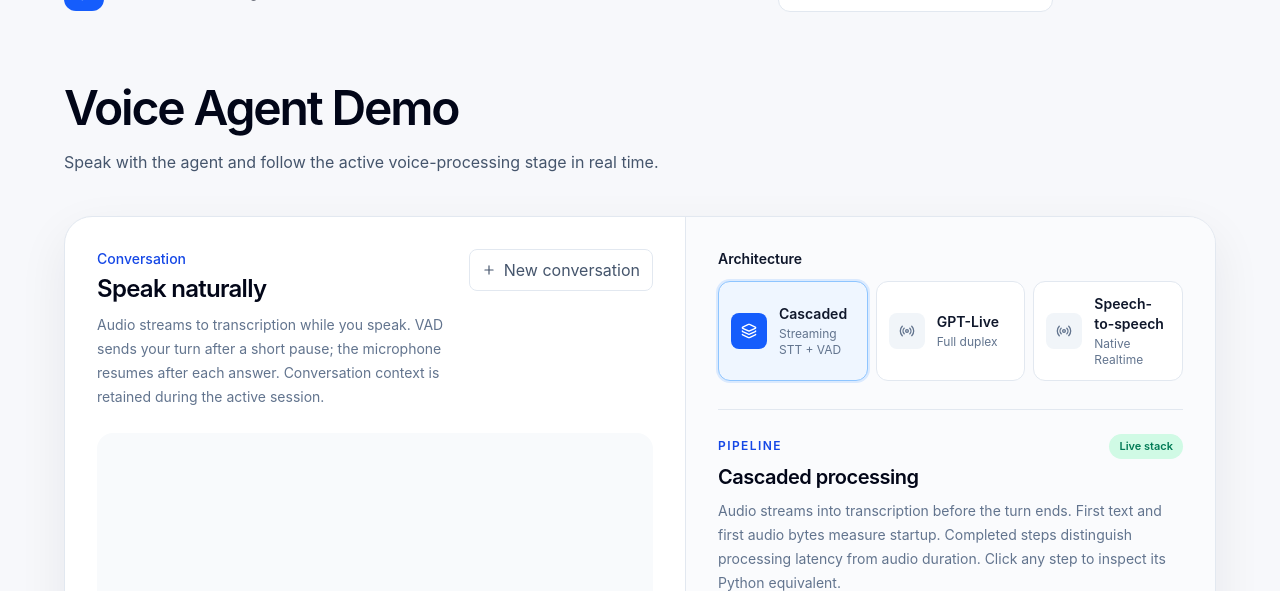
Test: AppShell › does not reopen Speech-to-speech microphone capture after New conversation cancels startup
This screenshot has width=1280, height=591.
Click the radio button labelled "Speech-to-speech Native Realtime": (1108,331) [1033,281,1183,381]
(page scrolled)
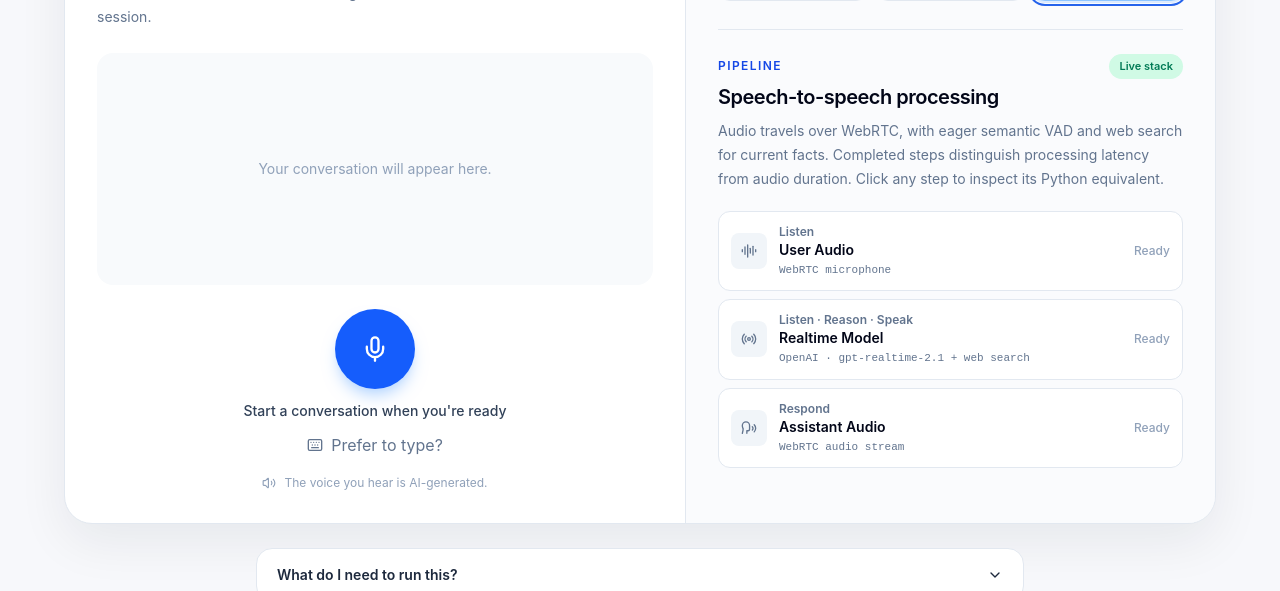
Click the button named "Start conversation": (375,349) [335,309,415,389]
(page scrolled)
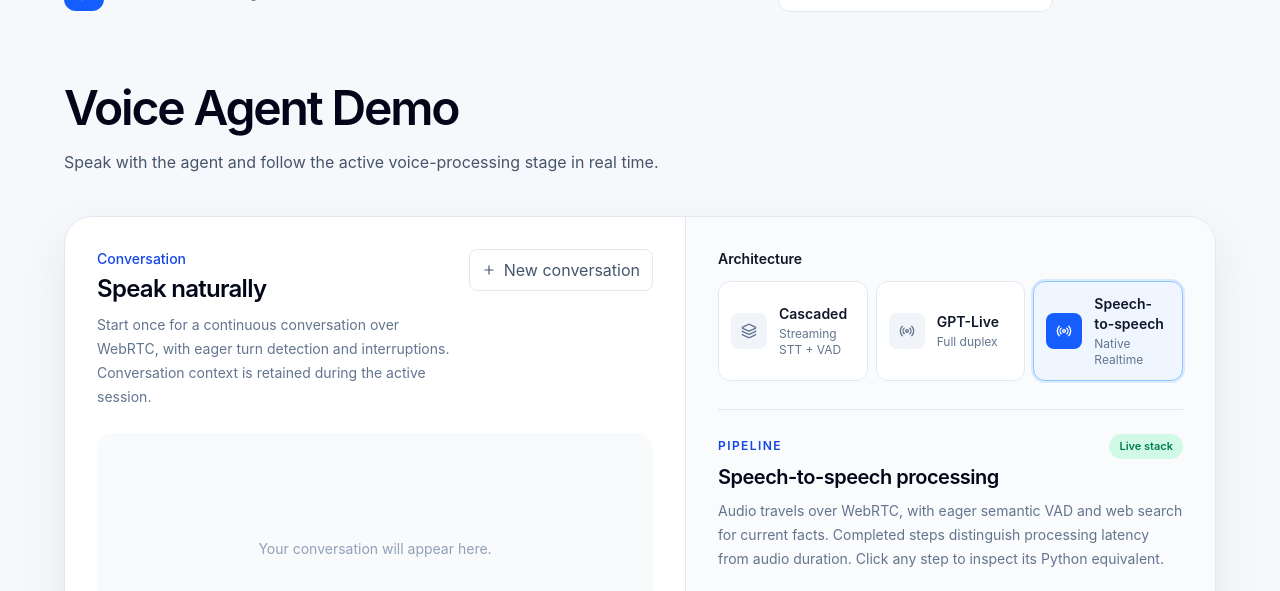
Click the button "New conversation": (561,270) [469,249,653,291]
(page scrolled)
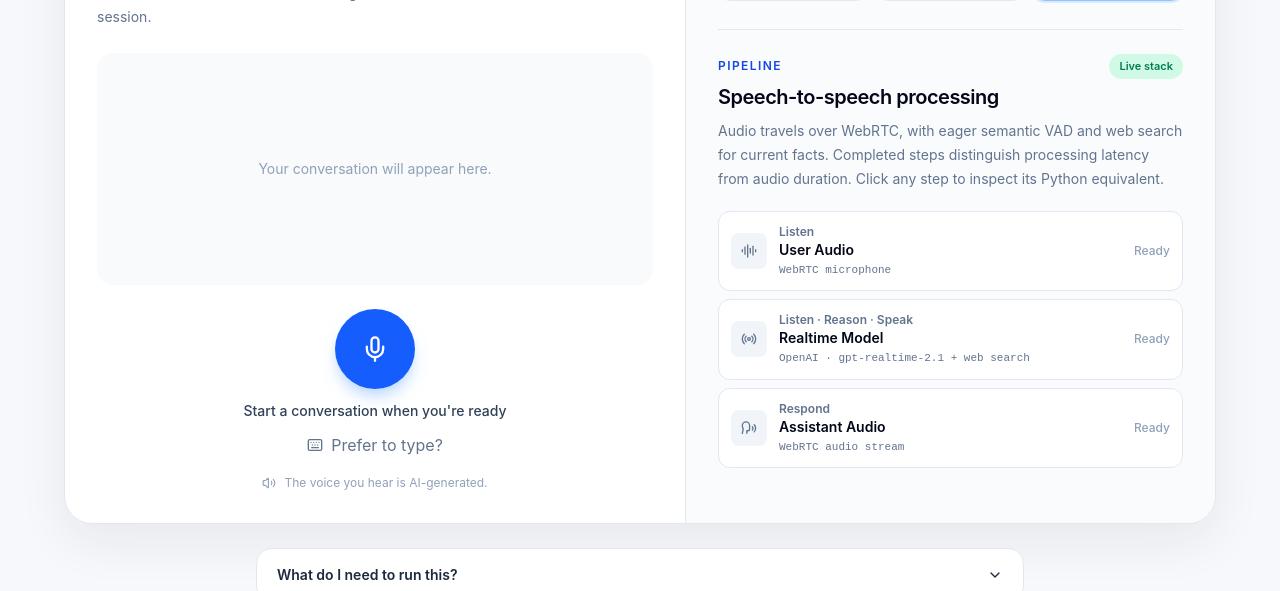
Check: the text "Start a conversation when you're ready" is shown, box [244,402,506,419]
